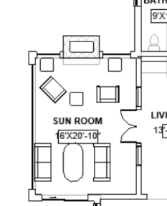double door: (118, 107, 140, 146)
